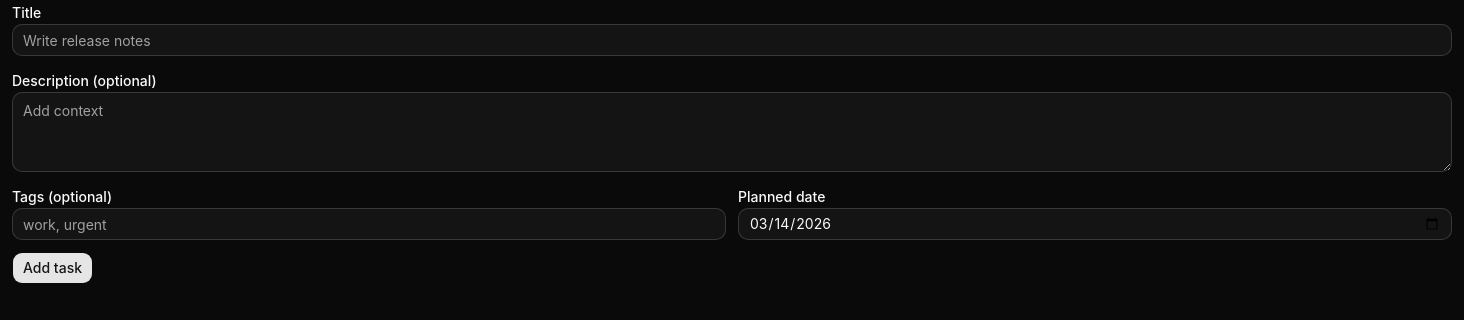
TaskForm › exposes validation state and error association for accessibility
Click the button "Add task".
click(52, 268)  # box x1=12 y1=252 x2=93 y2=284
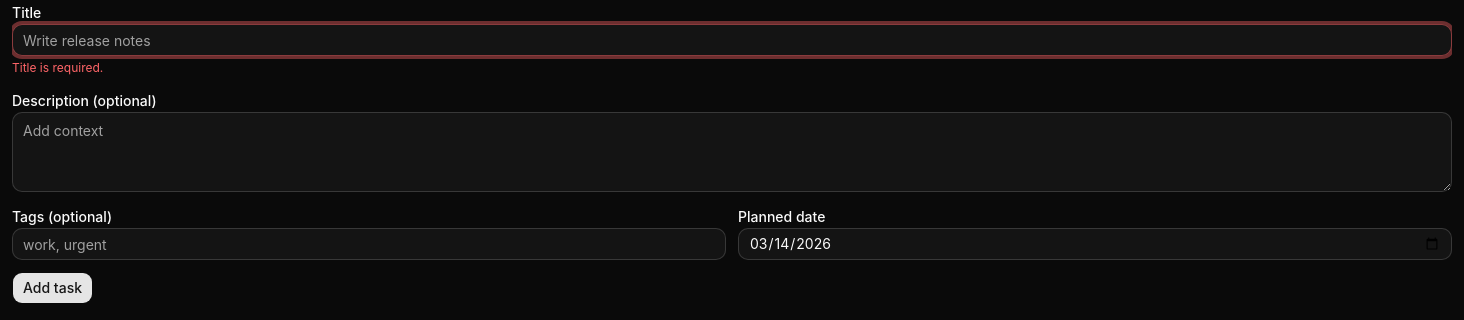
Check: the message reads "Title is required.", box x1=12 y1=60 x2=103 y2=75
